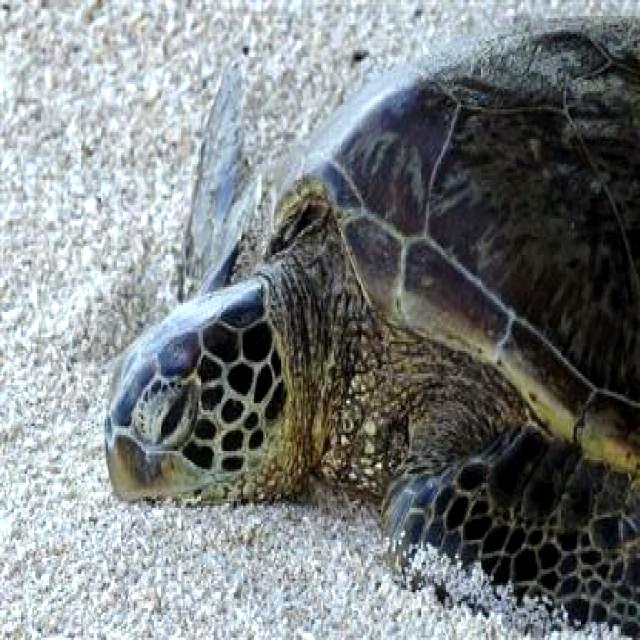Sea turtle: (81, 13, 640, 632)
